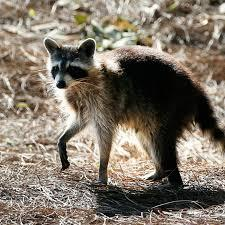raccoon: (31, 28, 225, 195)
